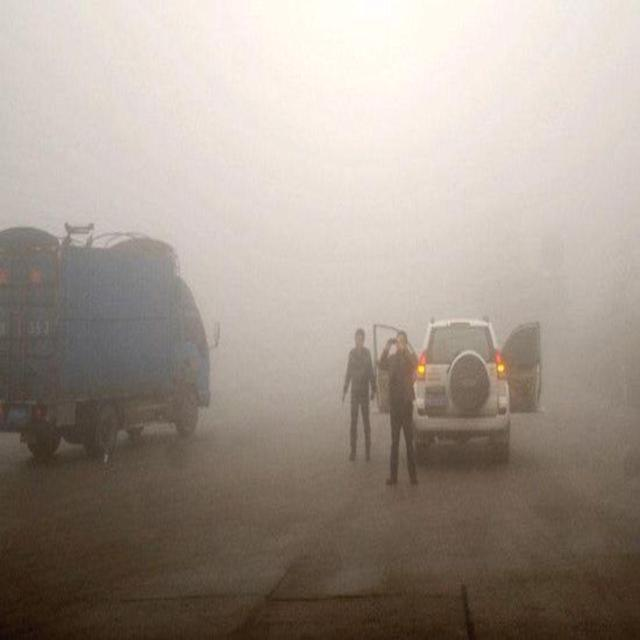Car: (2, 212, 224, 460), (372, 248, 545, 462)
